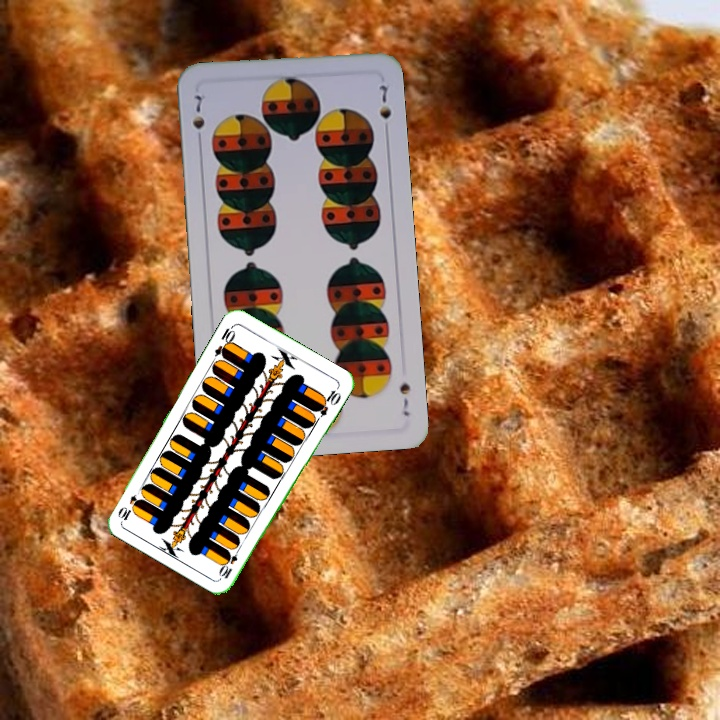E10: (210, 321, 238, 360), (216, 543, 243, 581)
S7: (188, 91, 208, 147), (395, 378, 413, 418)
